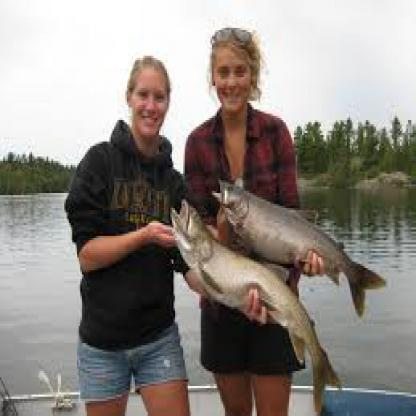fish: (162, 194, 340, 406), (211, 182, 386, 309)
